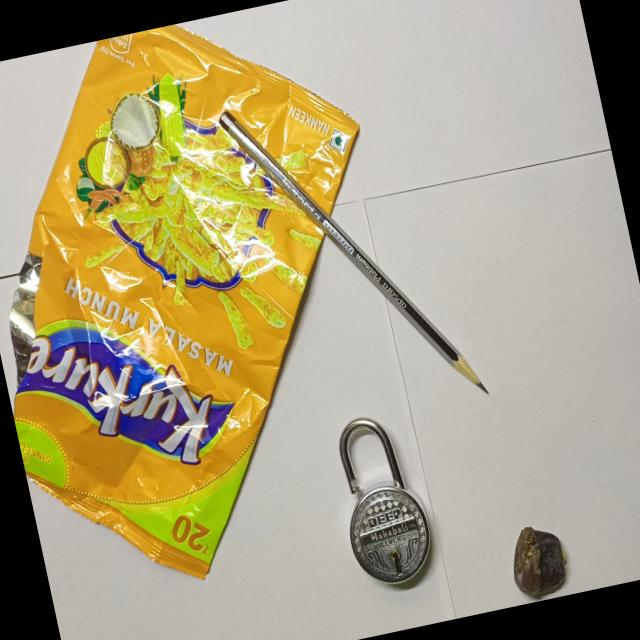Date-Bio: (501, 518, 576, 604)
Pencil-Bio: (212, 67, 496, 444)
Plastic-NonBio: (0, 0, 443, 609)
Steel-NonBio: (324, 407, 444, 604)
